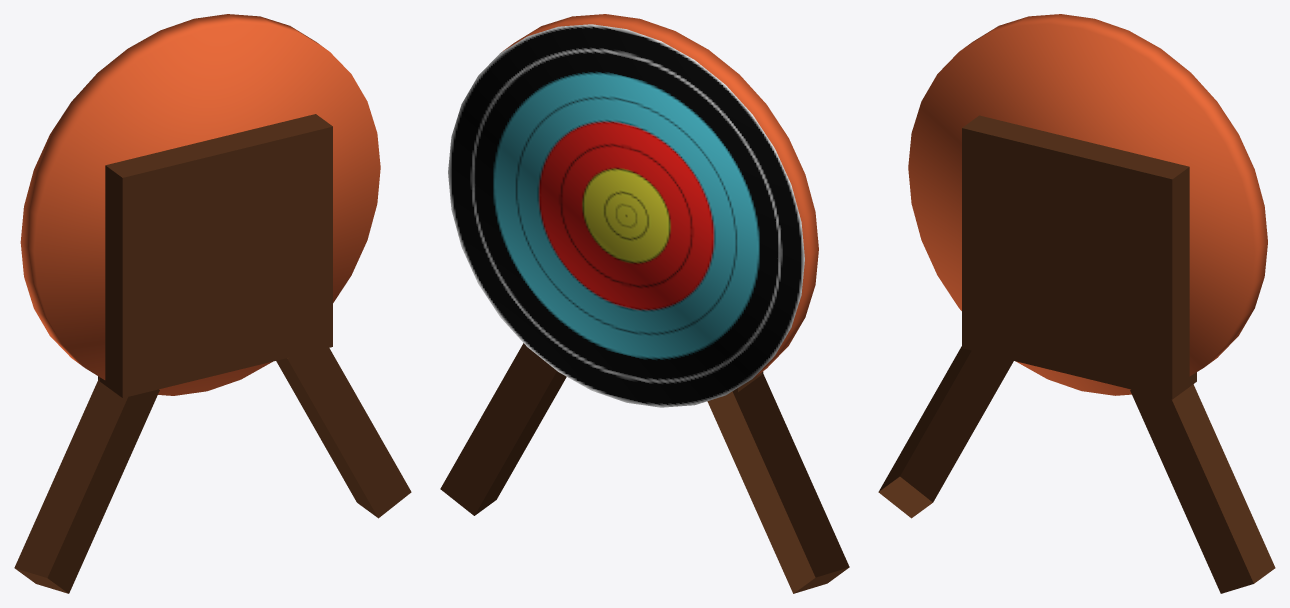
The model's file is мишень.fbx.
The picture shows the model from 3 angles, left to right: view 1: azimuth 30°, elevation 25°; view 2: azimuth 150°, elevation 25°; view 3: azimuth 330°, elevation 25°; orthographic projection. The views are drawn at different scales.
Visible parts, largest first — view 1: Cube.002; view 2: Cube.002; view 3: Cube.002.
Part boxes in pixels (left/top/right/bottom): Cube.002: left=14, top=14, right=411, bottom=593; Cube.002: left=440, top=14, right=849, bottom=593; Cube.002: left=878, top=14, right=1275, bottom=593.
Size of the model in its own units: 126 by 165 by 17.87.
3 materials, 1 textured.
